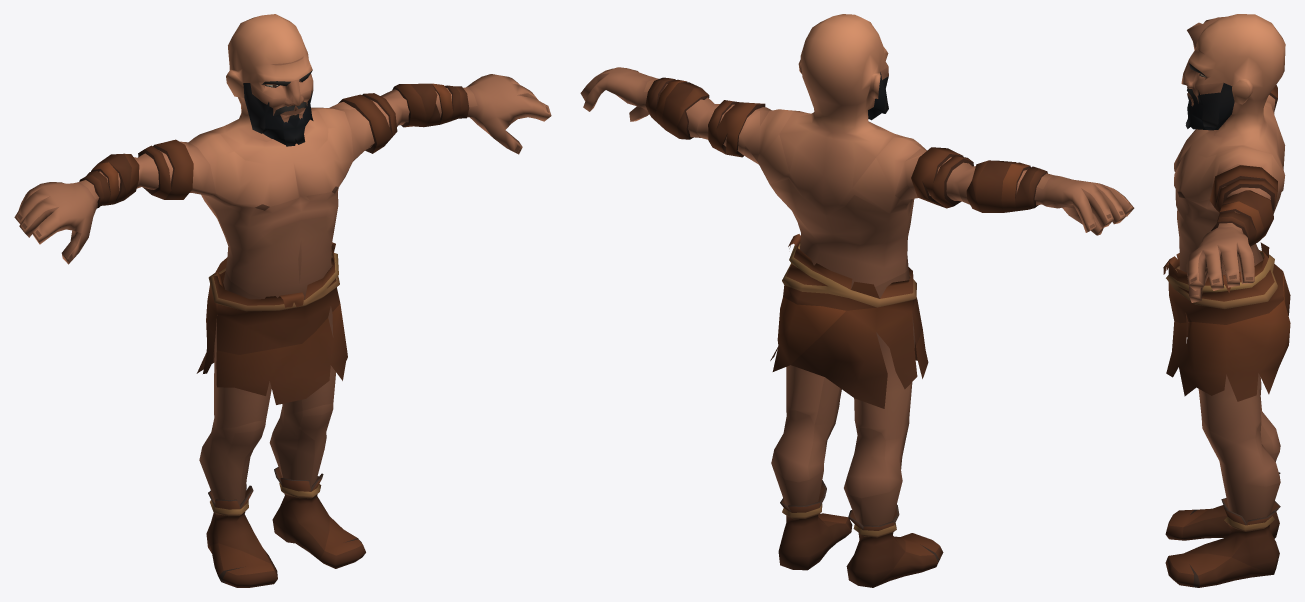
File: AvatarSimpleAltered.FBX
3 views of the same model, side by side, from view 1: azimuth 30°, elevation 25°; view 2: azimuth 150°, elevation 25°; view 3: azimuth 270°, elevation 25° (orthographic). The views are drawn at different scales.
Visible parts, largest first — view 1: Body, Skirt; view 2: Body, Skirt; view 3: Body, Skirt.
Part boxes in pixels (box(x1,y1,x2,y2)): Body: box(14, 14, 551, 587); Skirt: box(196, 242, 347, 404); Body: box(580, 14, 1134, 587); Skirt: box(770, 234, 928, 408); Body: box(1165, 14, 1285, 587); Skirt: box(1163, 242, 1290, 401).
Size of the model in its own units: 1852 by 1811 by 389.
1 material, 1 textured.
